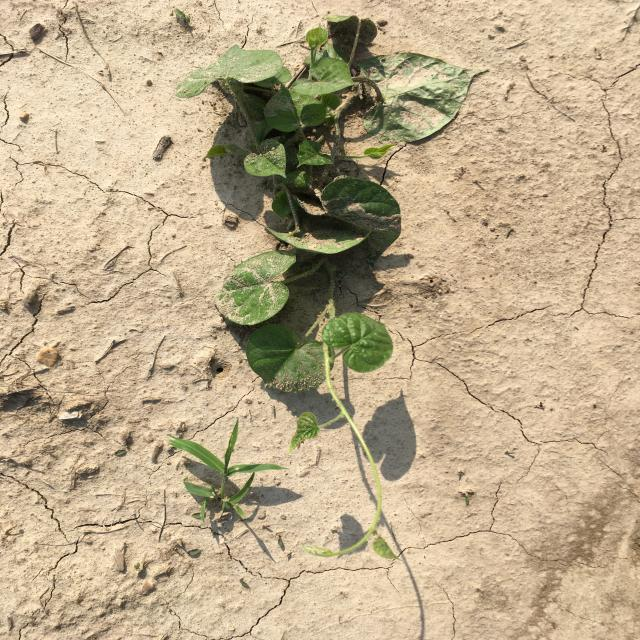MorningGlory: (175, 14, 490, 562)
